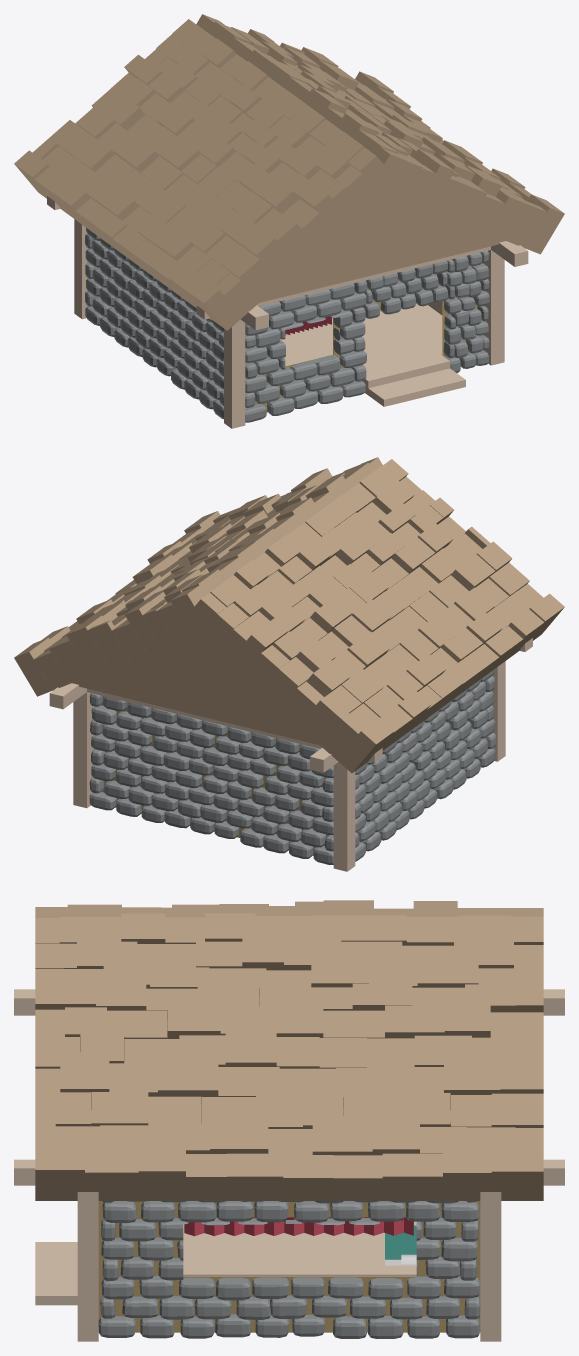
Rendered from house_1a.glb.
The picture shows the model from 3 angles, top to bottom: view 1: azimuth 30°, elevation 25°; view 2: azimuth 150°, elevation 25°; view 3: azimuth 270°, elevation 25°; orthographic projection. The views are drawn at different scales.
Visible parts, largest first — view 1: Mesh_Mesh_head_geo.001_lambert2SG.001; view 2: Mesh_Mesh_head_geo.001_lambert2SG.001; view 3: Mesh_Mesh_head_geo.001_lambert2SG.001.
Boxes of the visible parts, x1,y1,x2,y2 form: Mesh_Mesh_head_geo.001_lambert2SG.001: (14, 14, 564, 428); Mesh_Mesh_head_geo.001_lambert2SG.001: (14, 457, 564, 871); Mesh_Mesh_head_geo.001_lambert2SG.001: (14, 900, 564, 1341).
Bounding box in the file's own units: 26.53 × 18.07 × 26.
